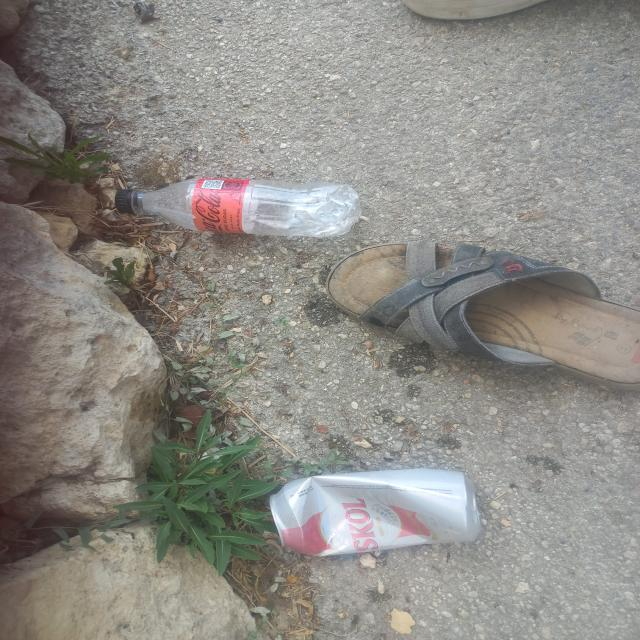Bottle: (110, 172, 361, 240)
Can: (257, 464, 484, 563)
Other litter: (323, 237, 640, 392)
